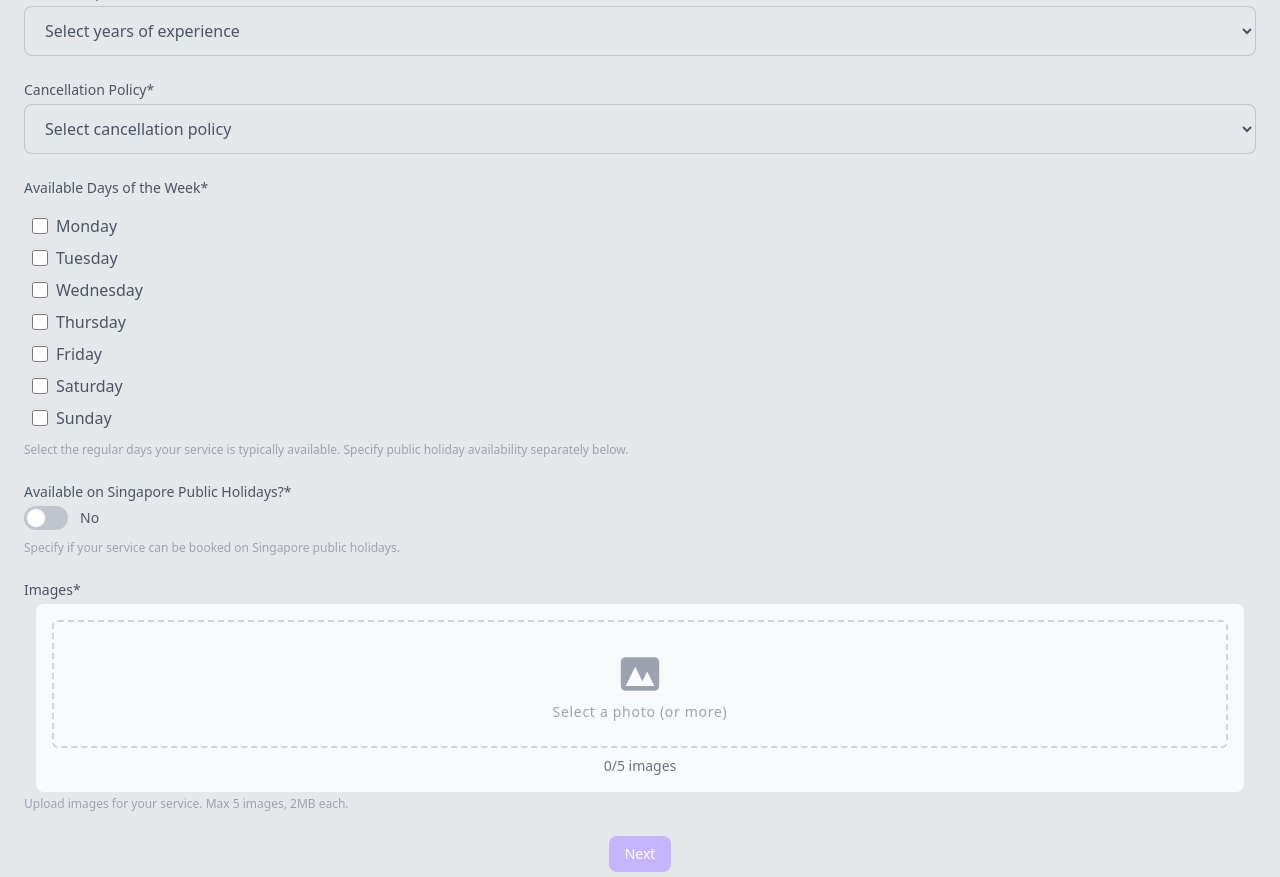
MultiStepServiceForm › Step 1: Core Details › Validation › prevents proceeding to Step 2 if title is missing and shows error
(page scrolled)
Step 1. Click the button "Next" → (640, 854), box [609,836,671,872]
(page scrolled)
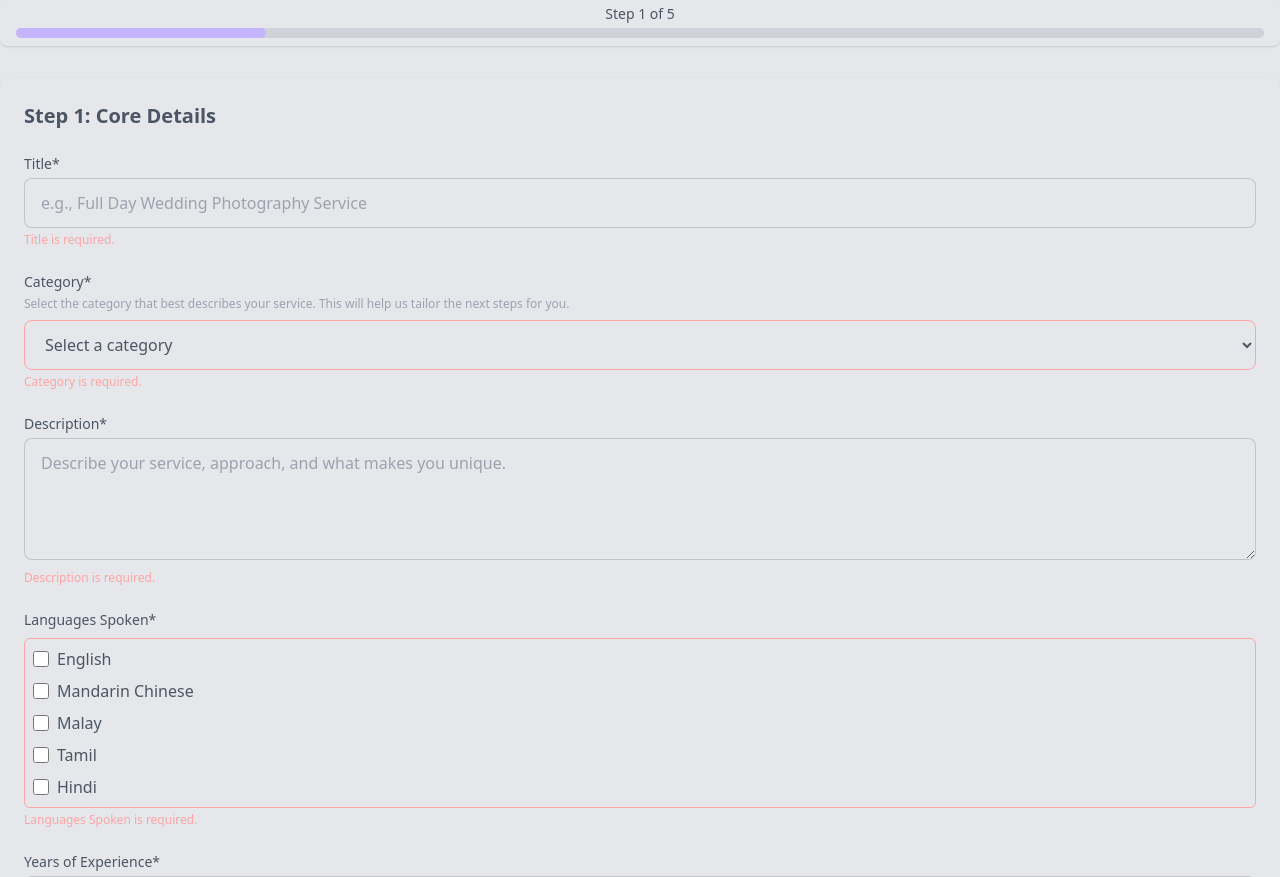
expect the heading "Step 1: Core Details" is shown: met, box [24,102,216,129]
expect the text "Title is required." is shown: met, box [24,231,114,248]
